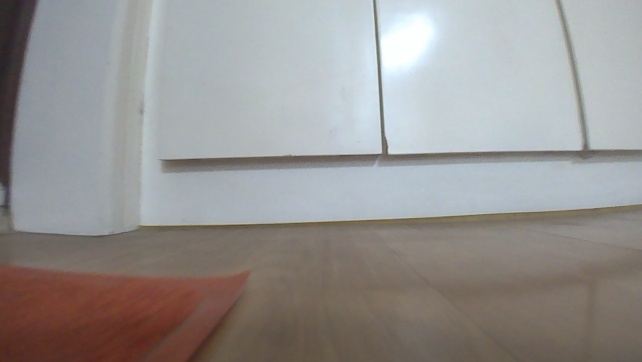blanket: (0, 258, 256, 361)
